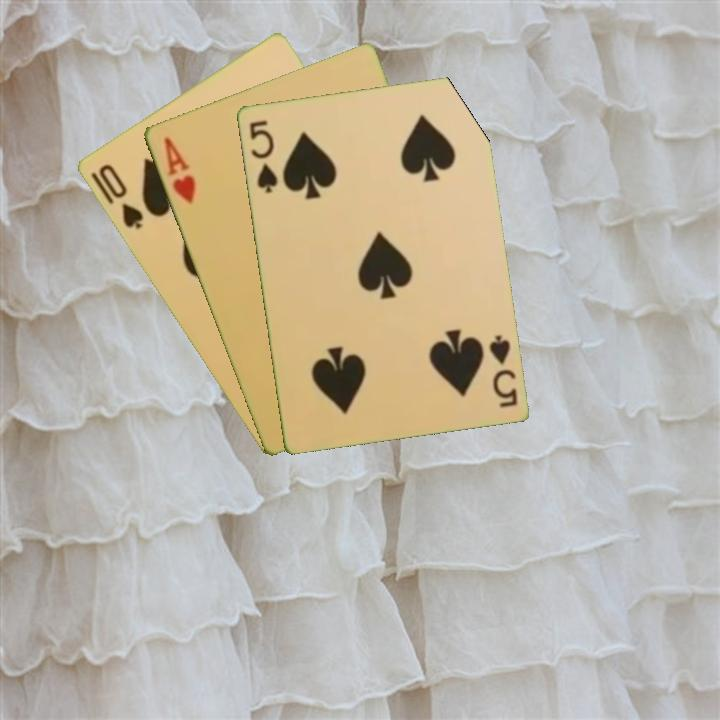10s: (94, 160, 146, 232)
5s: (245, 116, 280, 195), (485, 331, 520, 410)
Ah: (159, 133, 198, 207)
